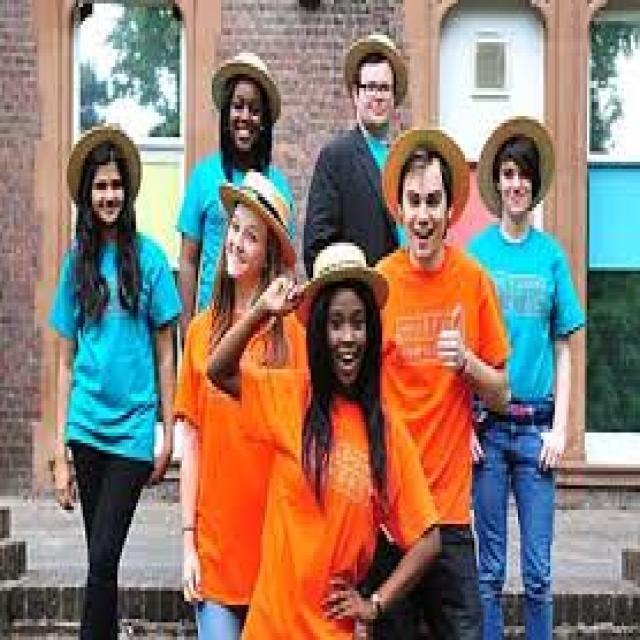hat: (293, 242, 392, 386), (384, 130, 470, 253), (219, 169, 297, 292), (64, 127, 143, 225), (477, 123, 557, 215), (209, 53, 281, 151), (341, 35, 410, 127)
